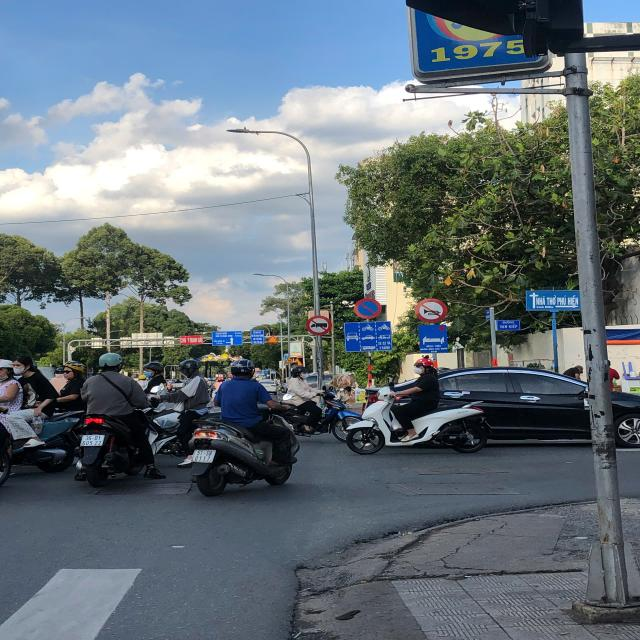Bien bao cam do xe: (353, 297, 383, 321)
Bien bao cam xe so-mi ro-mooc: (302, 312, 334, 338)
